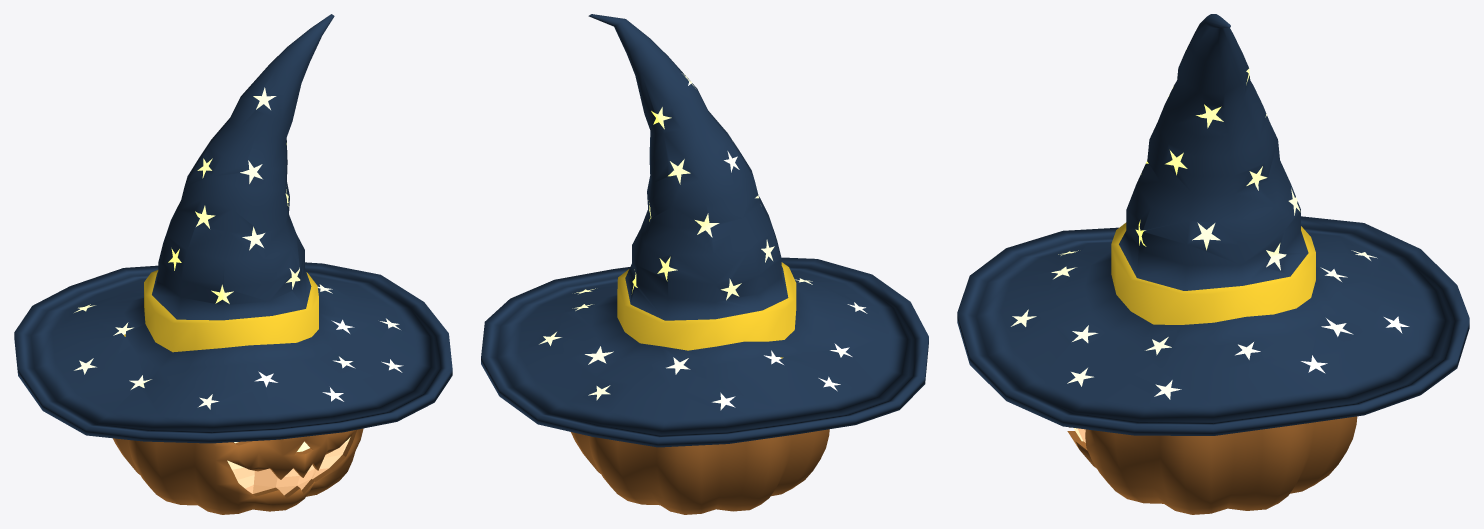
File: pumpkinWithHat.glb
3 views of the same model, side by side, from view 1: azimuth 30°, elevation 25°; view 2: azimuth 150°, elevation 25°; view 3: azimuth 270°, elevation 25° (orthographic). The views are drawn at different scales.
Visible parts, largest first — view 1: PumpkinWithHat; view 2: PumpkinWithHat; view 3: PumpkinWithHat.
Boxes of the visible parts, x1,y1,x2,y2 form: PumpkinWithHat: (14, 14, 452, 514); PumpkinWithHat: (481, 14, 928, 514); PumpkinWithHat: (957, 14, 1469, 514).
Size of what is drawn, in the model's own units: 5.24 by 5.76 by 5.24.
Materials: 2 (1 with a texture image).
